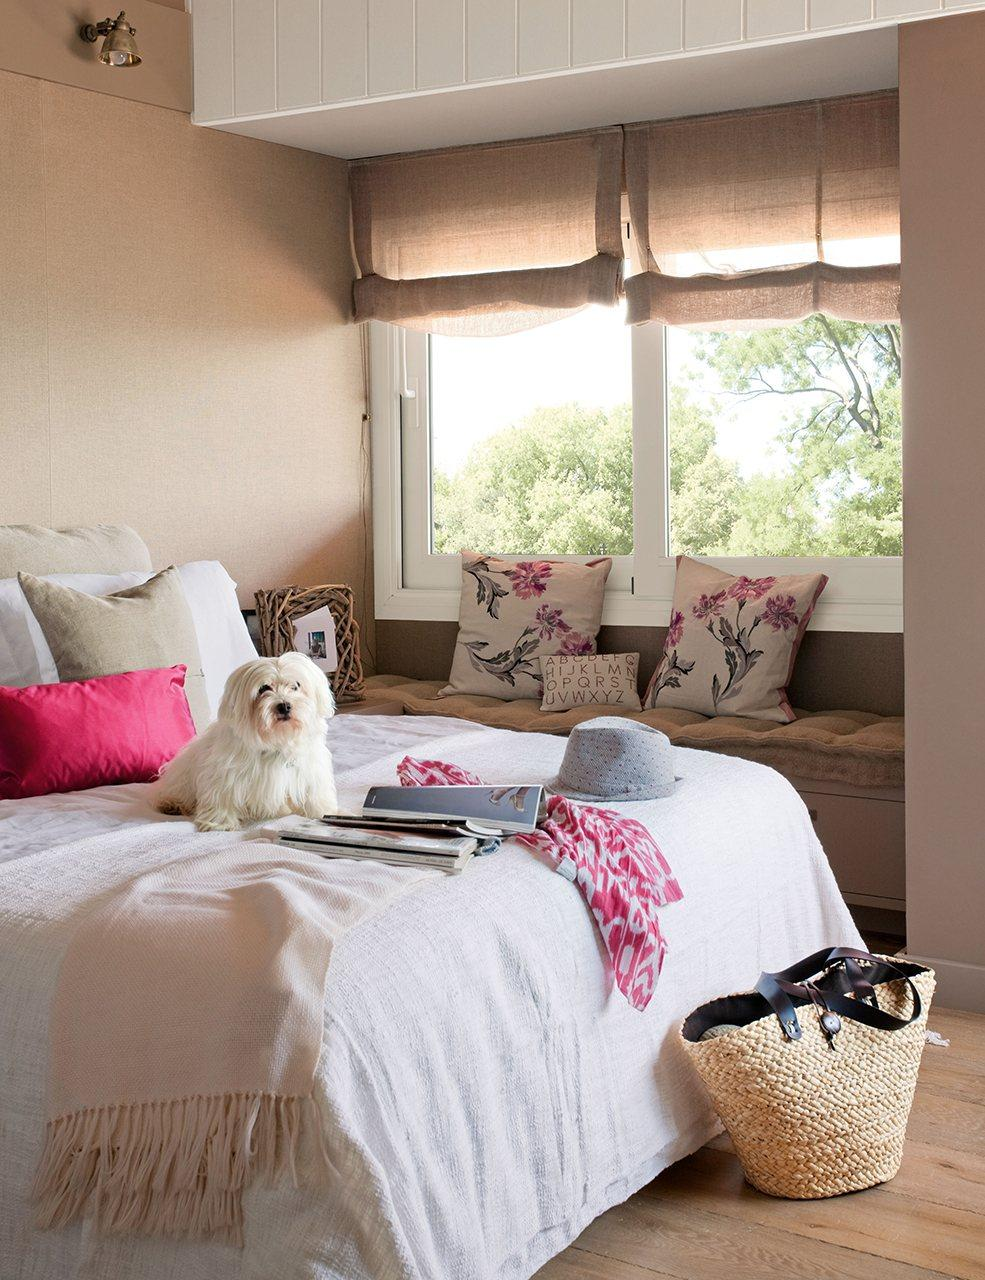bed: (30, 563, 663, 1190)
